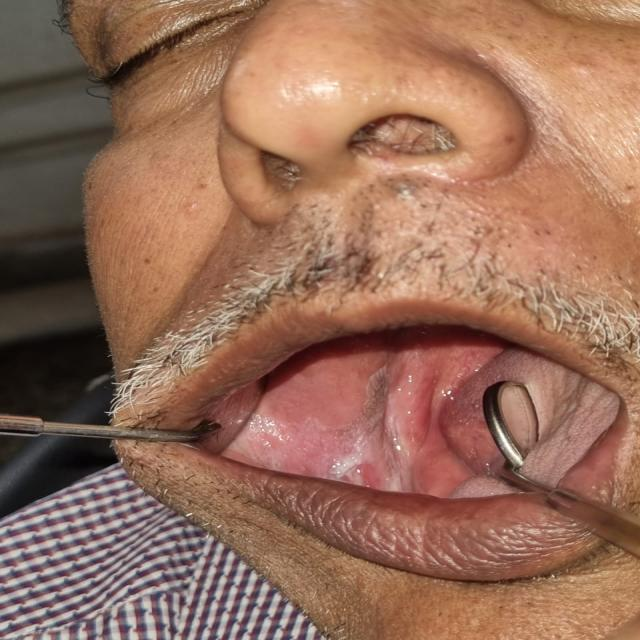leukoplakia-detection: (309, 354, 425, 489)
processing_area: (215, 342, 617, 498)
